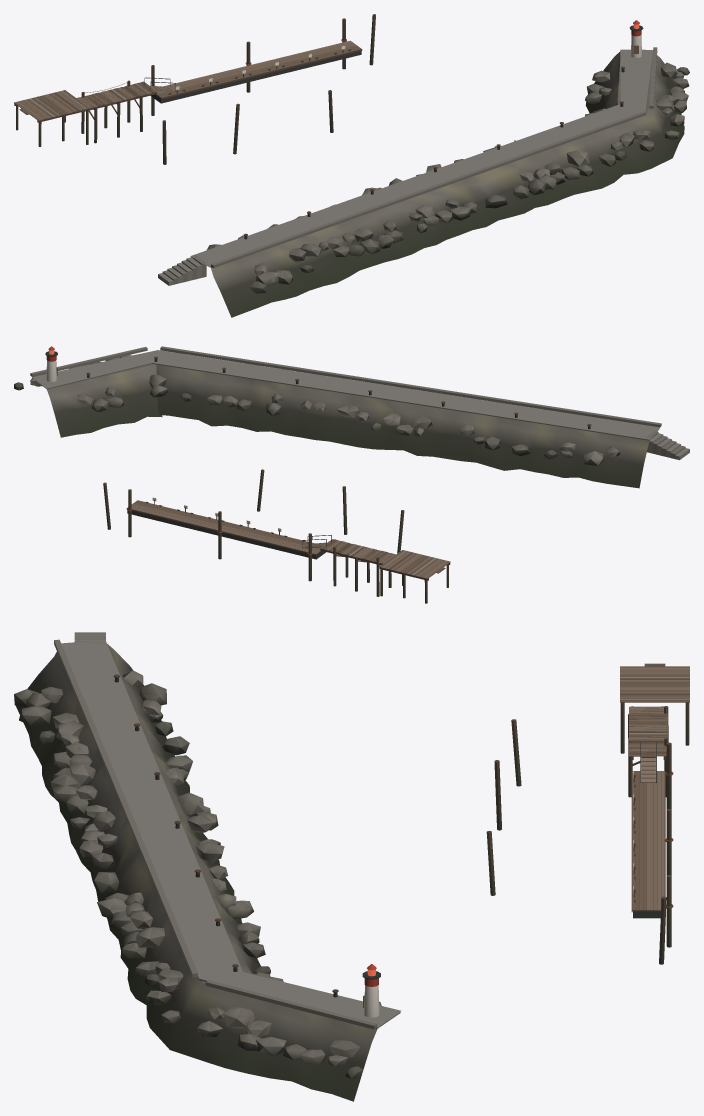
File: pier-breakwater.glb
3 renders of one model, top to bottom at view 1: azimuth 30°, elevation 25°; view 2: azimuth 150°, elevation 25°; view 3: azimuth 270°, elevation 25°, orthographic. The views are drawn at different scales.
Visible parts, largest first — view 1: breakwater, walk_mole, pier, mole_curb_v2, walk_mole_steps; view 2: breakwater, walk_mole, pier, mole_curb_v2, walk_mole_steps; view 3: breakwater, walk_mole, pier, mole_curb_v2, walk_pontoon_underlay.
Boxes of the visible parts, x1,y1,x2,y2 form: breakwater: [190, 20, 689, 317]; walk_mole: [190, 49, 652, 267]; pier: [14, 14, 375, 164]; mole_curb_v2: [211, 47, 657, 268]; walk_mole_steps: [158, 255, 206, 285]; breakwater: [14, 346, 659, 488]; walk_mole: [32, 350, 659, 440]; pier: [103, 469, 450, 603]; mole_curb_v2: [30, 346, 661, 427]; walk_mole_steps: [645, 431, 689, 460]; breakwater: [14, 644, 400, 1101]; walk_mole: [61, 640, 401, 1028]; pier: [486, 663, 689, 964]; mole_curb_v2: [54, 639, 377, 1029]; walk_pontoon_underlay: [632, 771, 661, 910].
Size of the model in its own units: 78.31 by 9.6 by 52.19.
